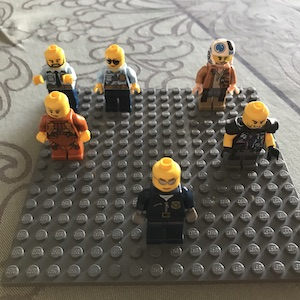Lego: (134, 157, 198, 245), (32, 91, 90, 160), (220, 102, 278, 171), (192, 39, 240, 112), (36, 45, 82, 112), (95, 43, 138, 112)
